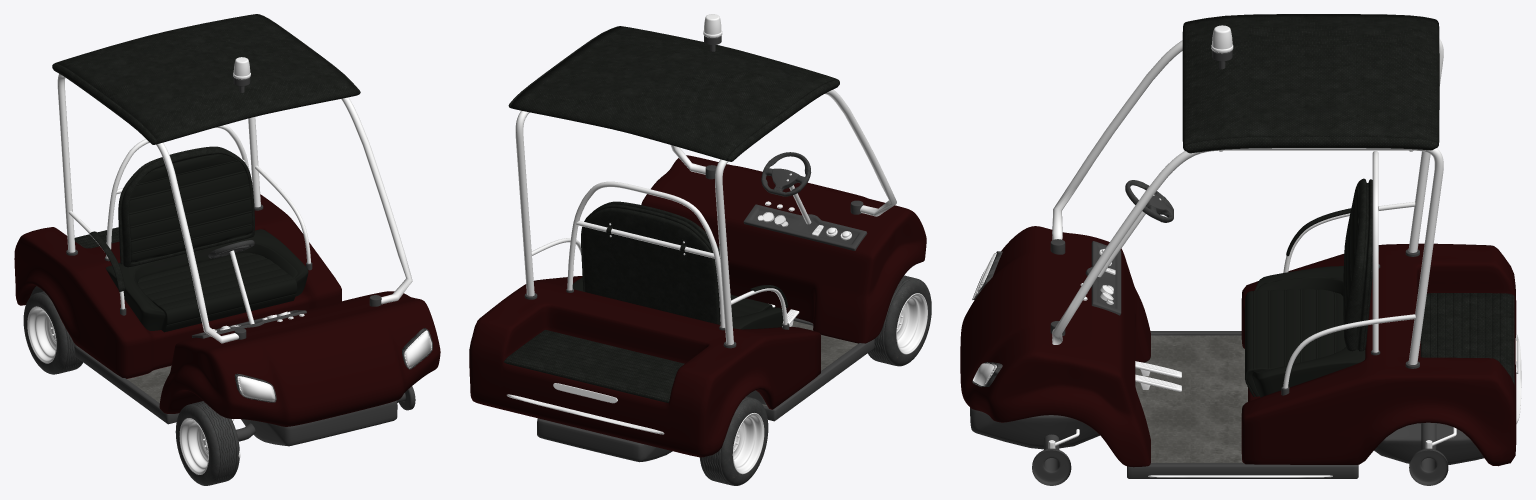
File: car.glb
The picture shows the model from 3 angles, left to right: view 1: azimuth 30°, elevation 25°; view 2: azimuth 150°, elevation 25°; view 3: azimuth 270°, elevation 25°; orthographic projection. The views are drawn at different scales.
Parts seen in each view (by area): view 1: Front_base, Seat, Roof, Back_base, Frame, Wheel_2, Wheel, Front_bottom, Base_bottom, steer, 2_headlight_7, headlight_7 (+3 smaller); view 2: Back_base, Roof, Front_base, Seat, Frame, Back_seat, Wheel_2, Wheel, Base_bottom, back_bottom, Panel_, steer (+1 smaller); view 3: Roof, Back_base, Front_base, Base_bottom, Seat, Frame, Back_seat, Front_bottom, back_bottom, back_gears, Panel_, Front_gears (+1 smaller).
Boxes of the visible parts, bbox=[...] form: Front_base: bbox=[159, 291, 440, 426]; Seat: bbox=[106, 146, 308, 332]; Roof: bbox=[52, 14, 360, 144]; Back_base: bbox=[14, 194, 341, 378]; Frame: bbox=[57, 73, 412, 343]; Wheel_2: bbox=[175, 401, 239, 485]; Wheel: bbox=[23, 291, 82, 374]; Front_bottom: bbox=[241, 400, 397, 446]; Base_bottom: bbox=[74, 345, 179, 424]; steer: bbox=[208, 240, 254, 324]; 2_headlight_7: bbox=[237, 376, 275, 401]; headlight_7: bbox=[404, 330, 431, 368]; Back_base: bbox=[469, 276, 820, 457]; Roof: bbox=[508, 26, 839, 161]; Front_base: bbox=[641, 155, 926, 343]; Seat: bbox=[572, 201, 783, 329]; Frame: bbox=[515, 89, 896, 344]; Back_seat: bbox=[504, 329, 684, 402]; Wheel_2: bbox=[867, 275, 931, 366]; Wheel: bbox=[699, 396, 768, 485]; Base_bottom: bbox=[762, 318, 874, 421]; back_bottom: bbox=[537, 418, 672, 462]; Panel_: bbox=[743, 204, 867, 250]; steer: bbox=[761, 152, 811, 224]; Roof: bbox=[1182, 14, 1439, 153]; Back_base: bbox=[1241, 243, 1516, 466]; Front_base: bbox=[960, 226, 1150, 467]; Base_bottom: bbox=[1127, 331, 1358, 478]; Seat: bbox=[1245, 178, 1372, 397]; Frame: bbox=[1052, 38, 1443, 388]; Back_seat: bbox=[1420, 293, 1514, 384]; Front_bottom: bbox=[970, 407, 1099, 449]; back_bottom: bbox=[1374, 423, 1483, 464]; back_gears: bbox=[1409, 422, 1448, 485]; Panel_: bbox=[1085, 241, 1121, 315]; Front_gears: bbox=[1032, 434, 1071, 485].
Bounding box in the file's own units: 1.32 × 1.84 × 2.18.
Materials: 17 (5 with a texture image).
